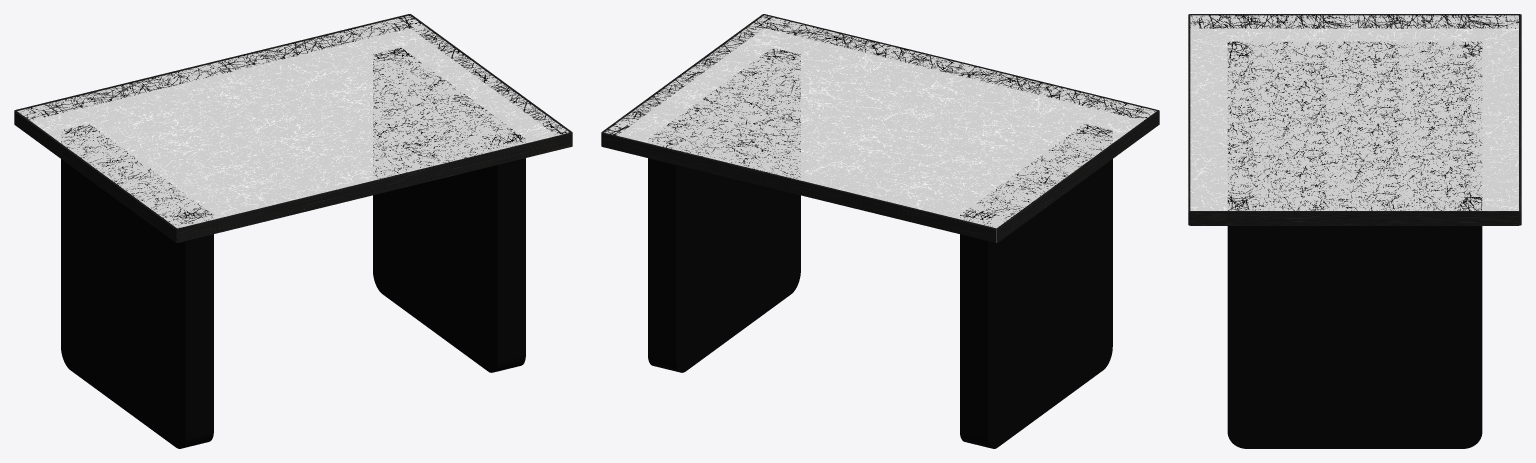
File: table.fbx
The picture shows the model from 3 angles, left to right: view 1: azimuth 30°, elevation 25°; view 2: azimuth 150°, elevation 25°; view 3: azimuth 270°, elevation 25°; orthographic projection. The views are drawn at different scales.
Parts seen in each view (by area): view 1: Cube; view 2: Cube; view 3: Cube.
Part boxes in pixels (left/top/right/bottom): Cube: left=14, top=14, right=572, bottom=448; Cube: left=601, top=14, right=1159, bottom=448; Cube: left=1188, top=14, right=1521, bottom=448.
Bounding box in the file's own units: 1078 × 638 × 767.
